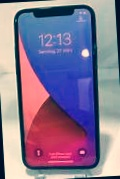iphone: (18, 7, 99, 170)
